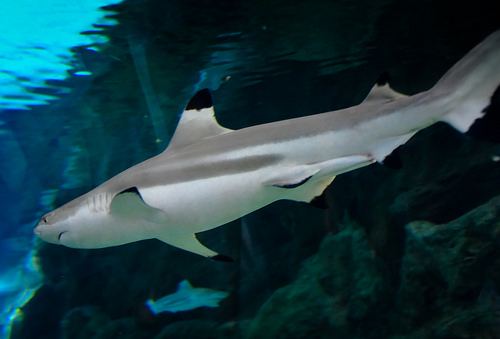shark: (15, 33, 493, 262)
